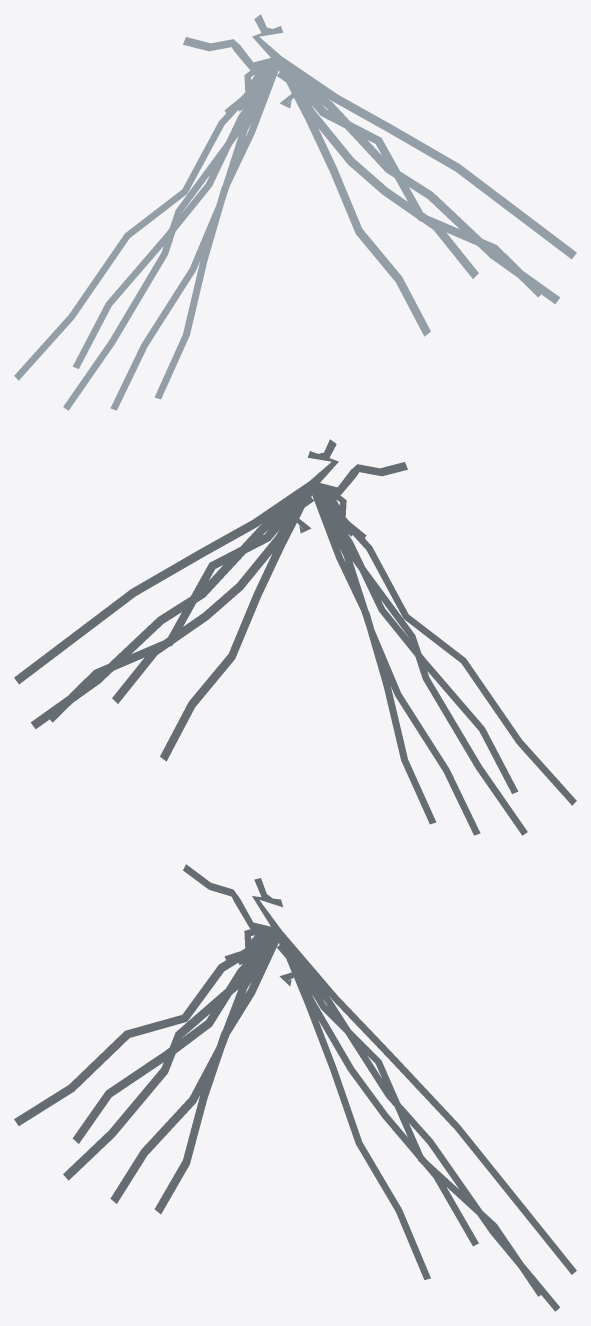
Rendered from 2057_EmpoweredPunch_GeoPunchGroundRays.fbx.
3 views of the same model, one above another, from view 1: azimuth 30°, elevation 25°; view 2: azimuth 150°, elevation 25°; view 3: azimuth 330°, elevation 25° (orthographic).
Parts seen in each view (by area): view 1: PART_GeoPunchIrregularGroundRay8, PART_GeoPunchIrregularGroundRay0, PART_GeoPunchIrregularGroundRay11, PART_GeoPunchIrregularGroundRay14, PART_GeoPunchIrregularGroundRay12, PART_GeoPunchIrregularGroundRay3, PART_GeoPunchIrregularGroundRay5, PART_GeoPunchIrregularGroundRay6, PART_GeoPunchIrregularGroundRay2, PART_GeoPunchIrregularGroundRay9, PART_GeoPunchIrregularGroundRay7, PART_GeoPunchIrregularGroundRay4; view 2: PART_GeoPunchIrregularGroundRay8, PART_GeoPunchIrregularGroundRay0, PART_GeoPunchIrregularGroundRay11, PART_GeoPunchIrregularGroundRay12, PART_GeoPunchIrregularGroundRay14, PART_GeoPunchIrregularGroundRay5, PART_GeoPunchIrregularGroundRay6, PART_GeoPunchIrregularGroundRay3, PART_GeoPunchIrregularGroundRay2, PART_GeoPunchIrregularGroundRay9, PART_GeoPunchIrregularGroundRay7, PART_GeoPunchIrregularGroundRay4; view 3: PART_GeoPunchIrregularGroundRay14, PART_GeoPunchIrregularGroundRay8, PART_GeoPunchIrregularGroundRay0, PART_GeoPunchIrregularGroundRay12, PART_GeoPunchIrregularGroundRay11, PART_GeoPunchIrregularGroundRay6, PART_GeoPunchIrregularGroundRay5, PART_GeoPunchIrregularGroundRay2, PART_GeoPunchIrregularGroundRay3, PART_GeoPunchIrregularGroundRay9, PART_GeoPunchIrregularGroundRay7.
Part boxes in pixels (x1,y1,x2,y2): PART_GeoPunchIrregularGroundRay8: (277, 57, 576, 259); PART_GeoPunchIrregularGroundRay0: (14, 58, 280, 380); PART_GeoPunchIrregularGroundRay11: (279, 57, 543, 297); PART_GeoPunchIrregularGroundRay14: (281, 56, 559, 304); PART_GeoPunchIrregularGroundRay12: (110, 61, 281, 410); PART_GeoPunchIrregularGroundRay3: (72, 59, 278, 368); PART_GeoPunchIrregularGroundRay5: (280, 63, 430, 336); PART_GeoPunchIrregularGroundRay6: (63, 64, 275, 410); PART_GeoPunchIrregularGroundRay2: (277, 62, 478, 278); PART_GeoPunchIrregularGroundRay9: (154, 60, 281, 399); PART_GeoPunchIrregularGroundRay7: (183, 37, 278, 69); PART_GeoPunchIrregularGroundRay4: (252, 14, 283, 60); PART_GeoPunchIrregularGroundRay8: (14, 481, 310, 684); PART_GeoPunchIrregularGroundRay0: (311, 483, 576, 805); PART_GeoPunchIrregularGroundRay11: (47, 482, 313, 722); PART_GeoPunchIrregularGroundRay12: (311, 485, 480, 835); PART_GeoPunchIrregularGroundRay14: (31, 486, 312, 729); PART_GeoPunchIrregularGroundRay5: (160, 483, 311, 761); PART_GeoPunchIrregularGroundRay6: (312, 485, 527, 835); PART_GeoPunchIrregularGroundRay3: (311, 484, 518, 793); PART_GeoPunchIrregularGroundRay2: (112, 482, 310, 703); PART_GeoPunchIrregularGroundRay9: (311, 488, 436, 824); PART_GeoPunchIrregularGroundRay7: (312, 462, 407, 494); PART_GeoPunchIrregularGroundRay4: (307, 439, 338, 484); PART_GeoPunchIrregularGroundRay14: (279, 930, 559, 1311); PART_GeoPunchIrregularGroundRay8: (281, 932, 576, 1274); PART_GeoPunchIrregularGroundRay0: (14, 931, 280, 1125); PART_GeoPunchIrregularGroundRay12: (110, 932, 281, 1203); PART_GeoPunchIrregularGroundRay11: (279, 931, 543, 1296); PART_GeoPunchIrregularGroundRay6: (63, 931, 280, 1180); PART_GeoPunchIrregularGroundRay5: (276, 935, 430, 1279); PART_GeoPunchIrregularGroundRay2: (278, 934, 478, 1246); PART_GeoPunchIrregularGroundRay3: (72, 932, 280, 1143); PART_GeoPunchIrregularGroundRay9: (154, 930, 279, 1213); PART_GeoPunchIrregularGroundRay7: (183, 864, 278, 934).
Bounding box in the file's own units: 423 × 260 × 4.24e-05.
